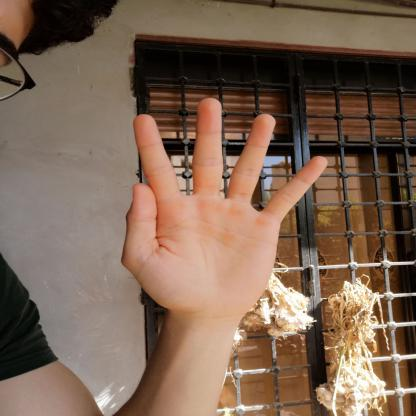SHEEN: (113, 90, 332, 332)
